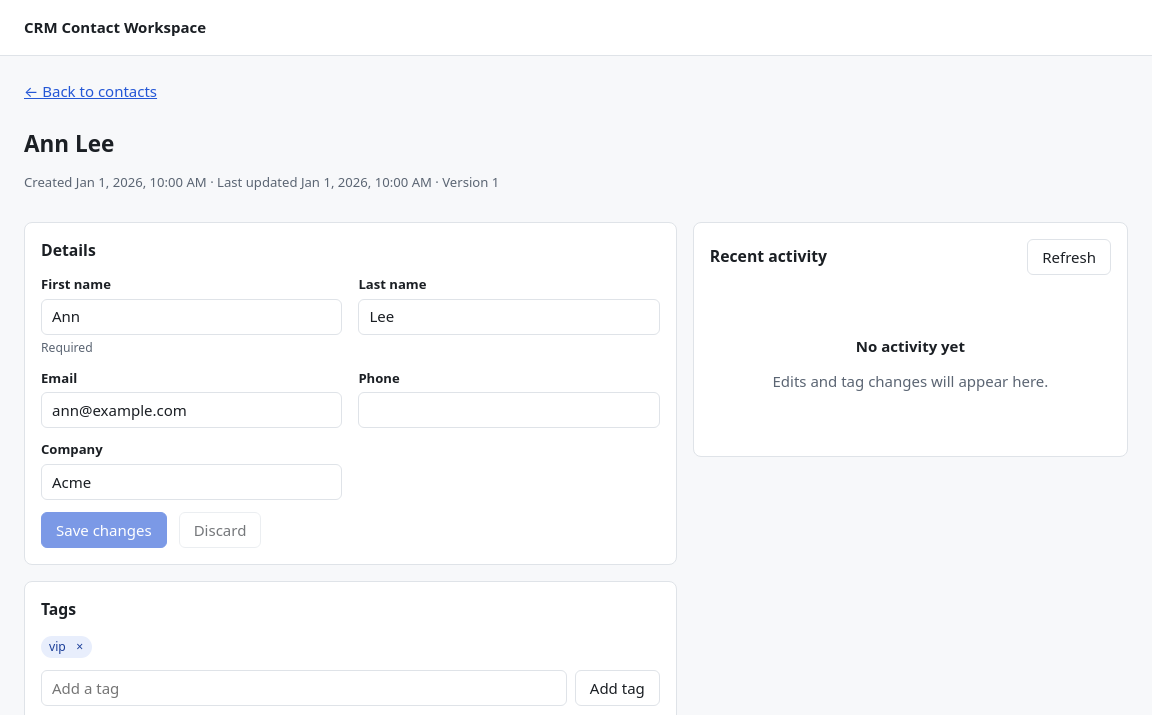
Scenario: ContactDetailPage — conflicting updates › explains the conflict, keeps the draft, and shows their version
Expected: the heading "Ann Lee" is shown, [24,128,114,158]
Type "555-010-2030" into the field labelled "Phone" at (509, 410), box [358,392,660,428]
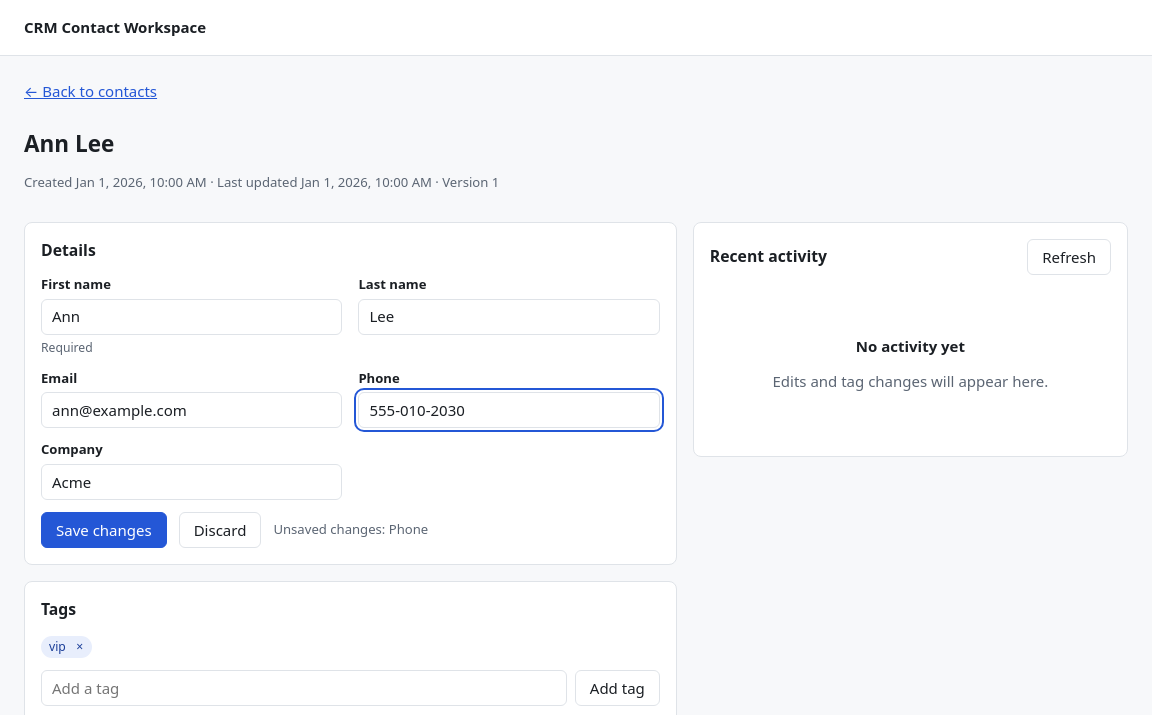
Replace the text in the field labelled "Company" with "Acme Ltd" at (192, 482), box [41,464,342,500]
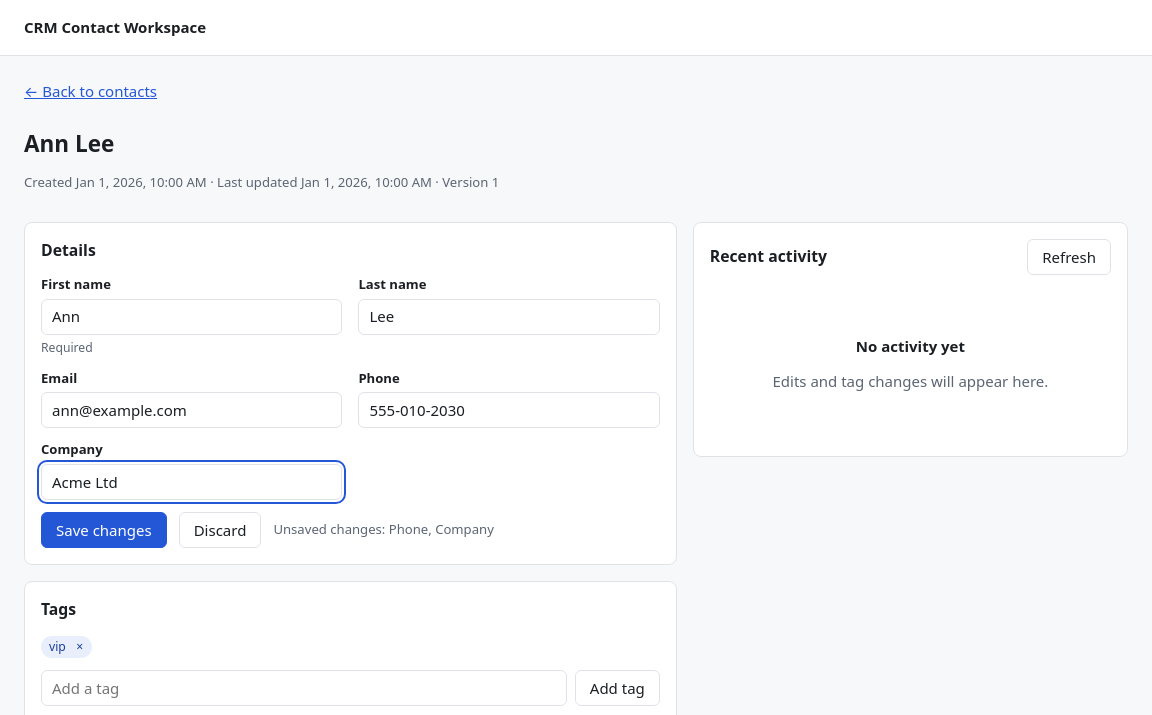
Click the button "Save changes" at (104, 530), box [41,512,167,548]
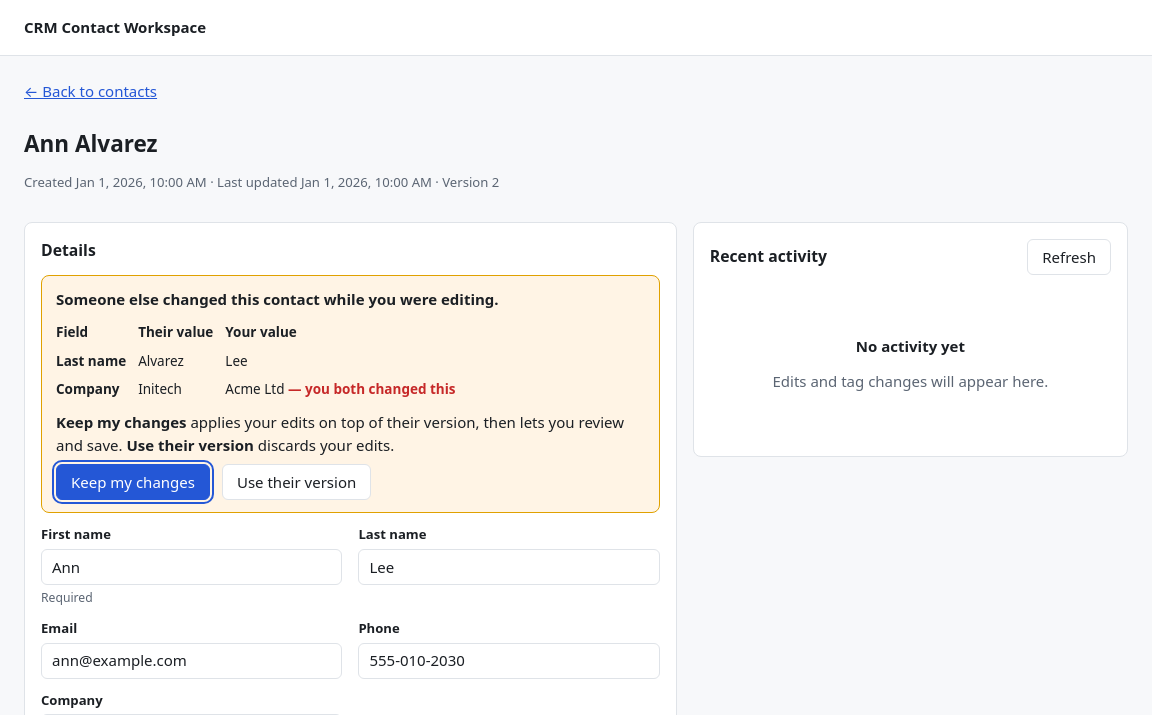
Result: the heading "Ann Alvarez" is shown at [24,128,158,158]
